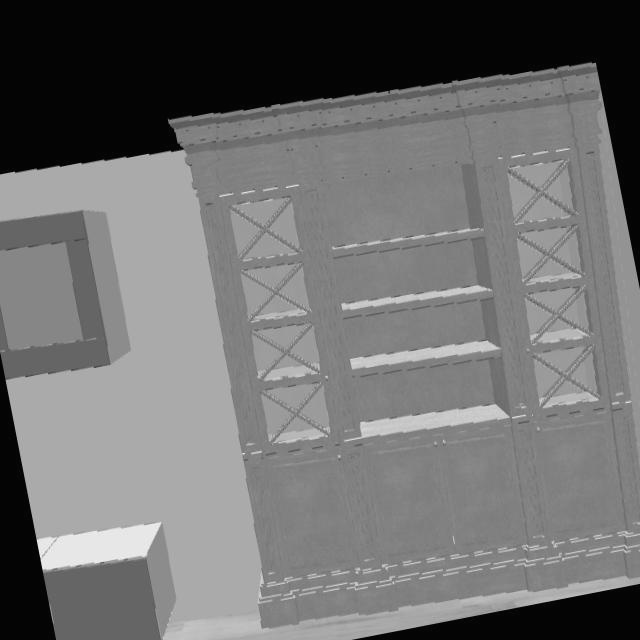cabinet: (172, 67, 640, 629), (0, 210, 133, 383), (39, 525, 178, 640)
